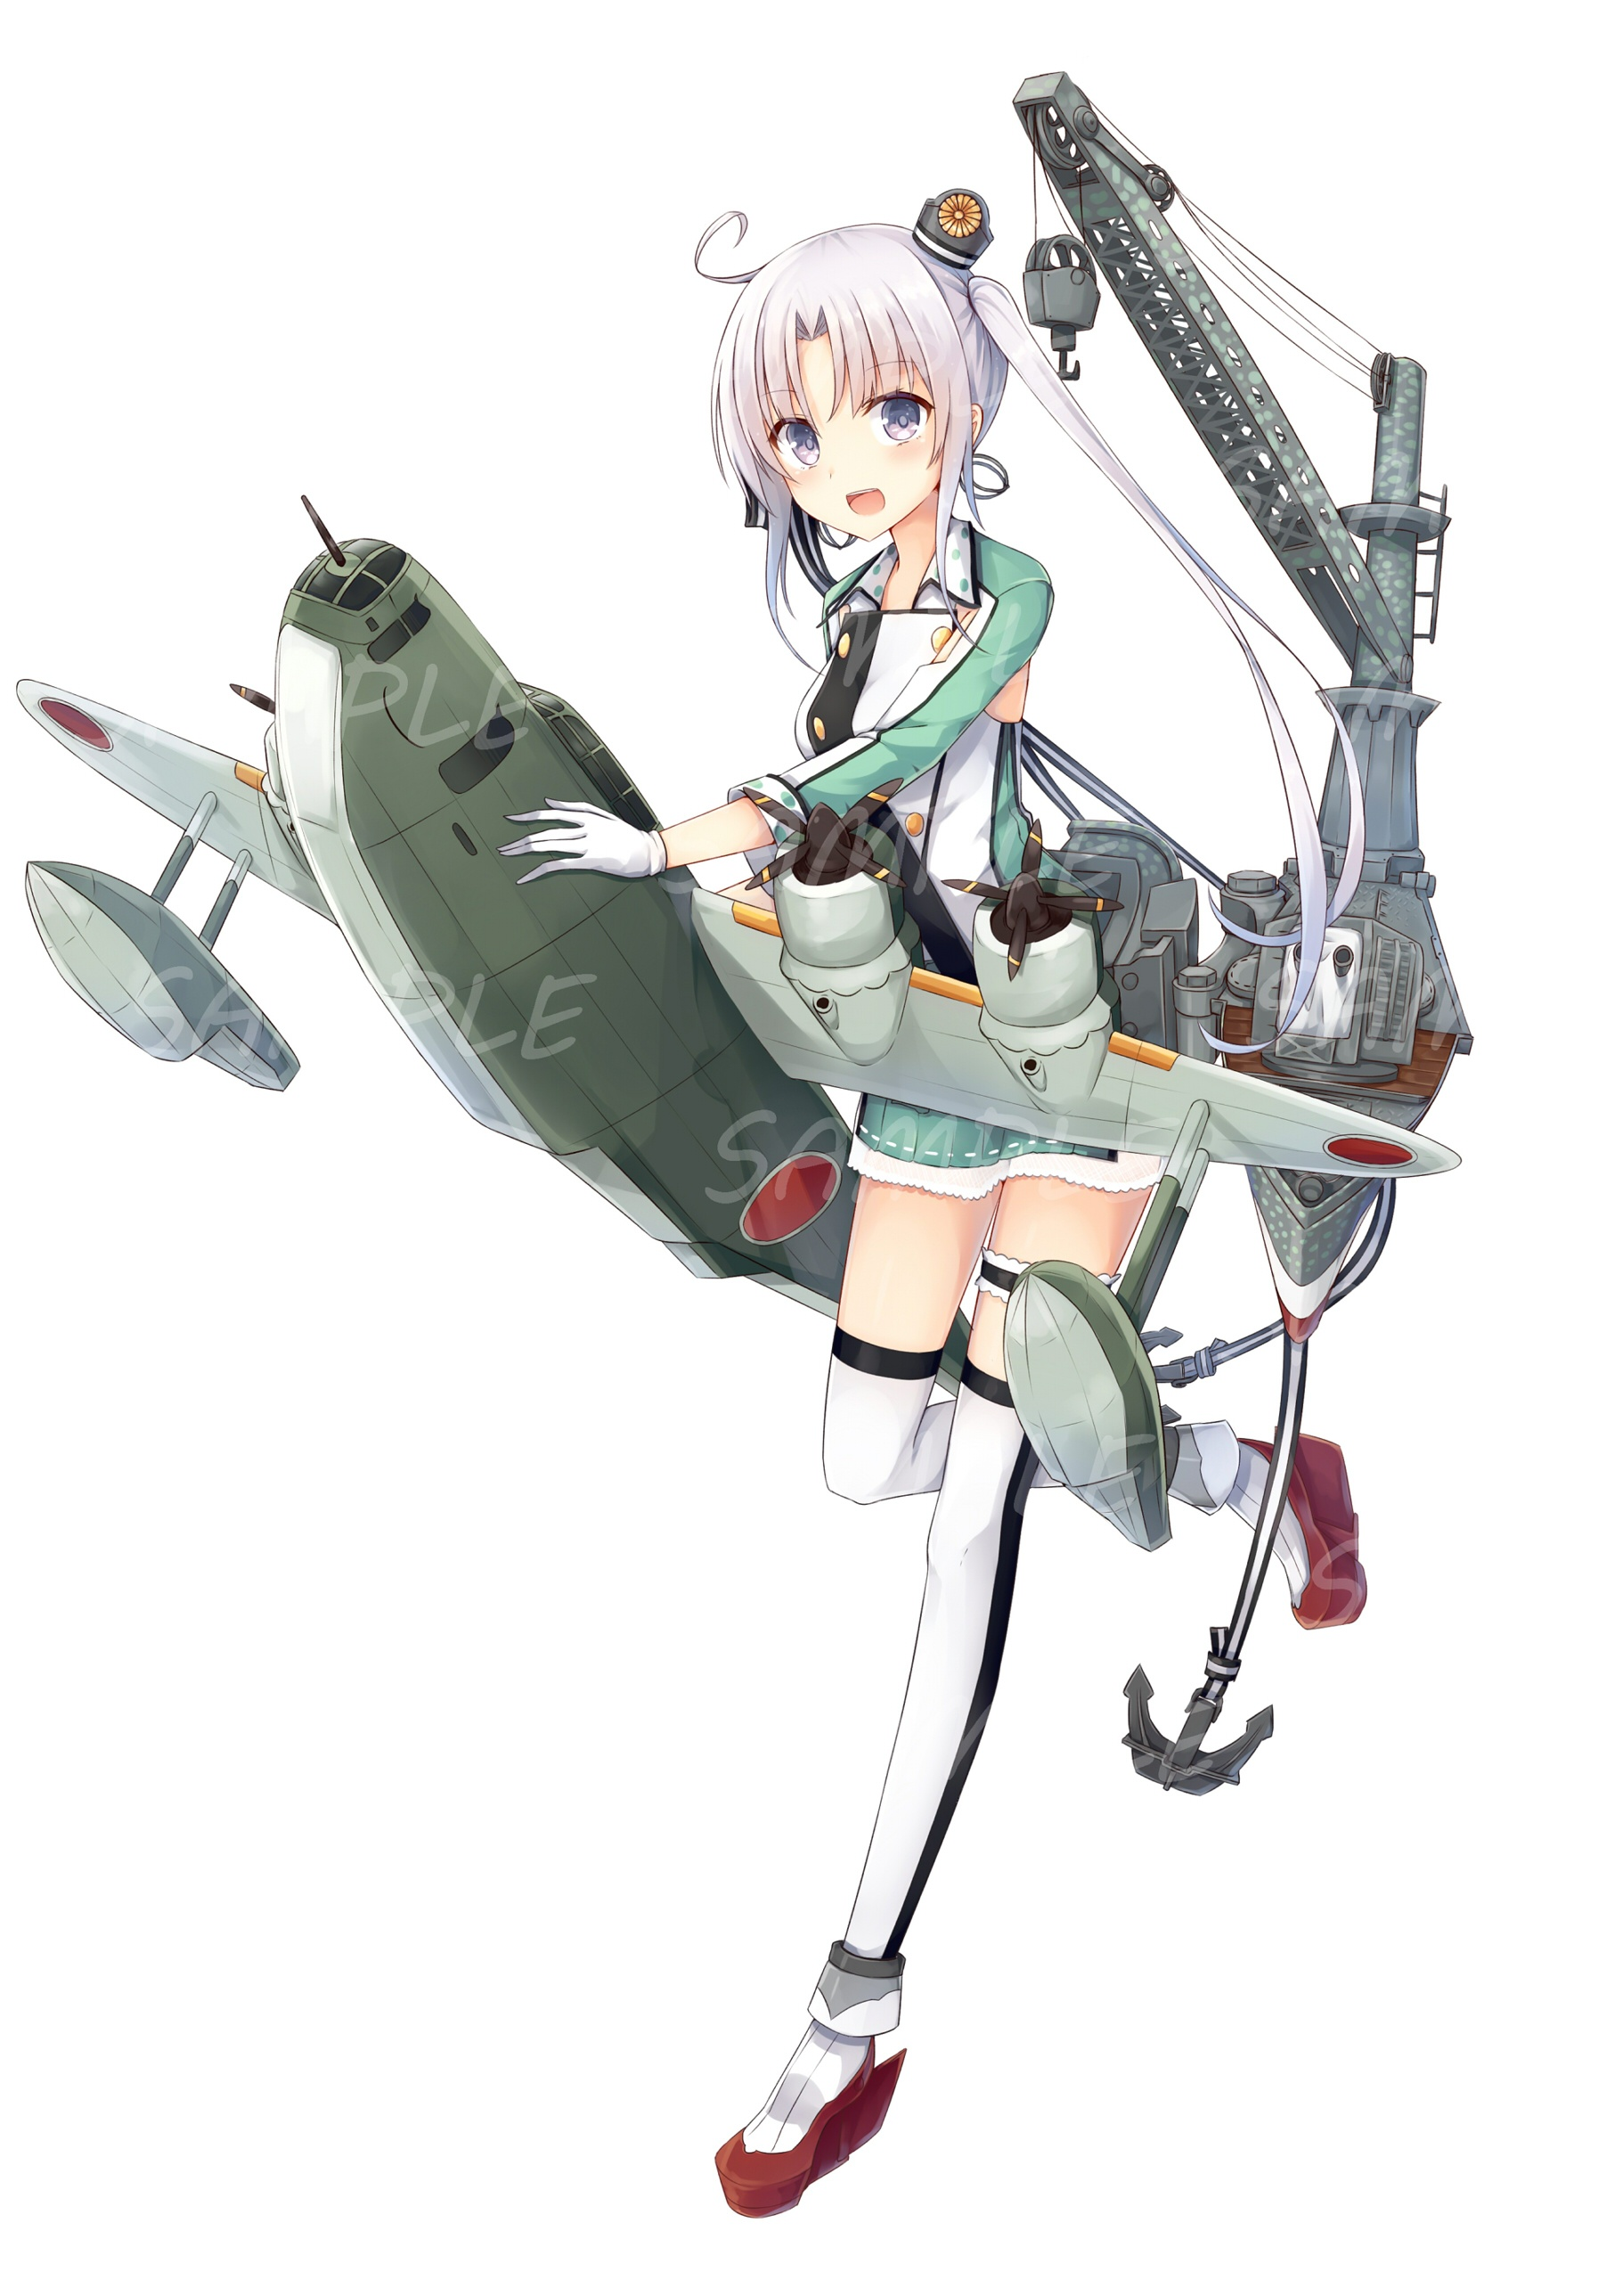纸片人正脸: (704, 197, 1005, 576)
